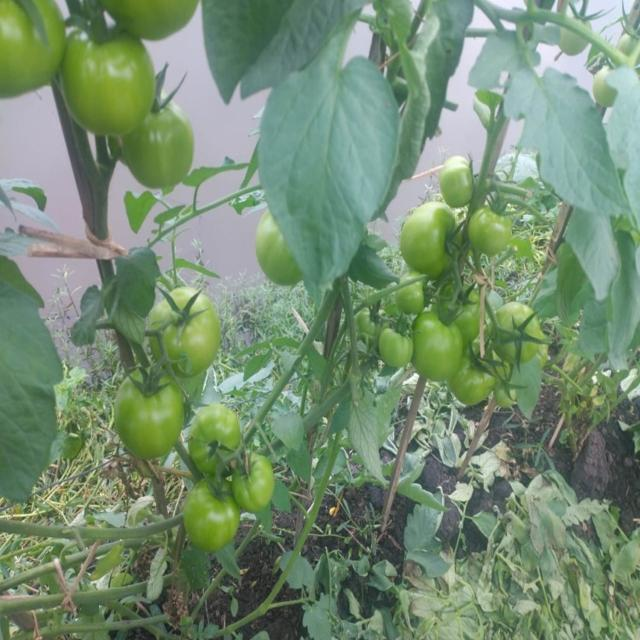tomato: (69, 20, 154, 131), (5, 2, 72, 102), (128, 98, 193, 197), (122, 364, 183, 457), (149, 286, 216, 370), (402, 204, 462, 275), (412, 310, 464, 383), (186, 488, 244, 553), (256, 212, 303, 292), (187, 404, 239, 476), (103, 1, 198, 39), (492, 300, 544, 360), (231, 447, 277, 510), (469, 204, 517, 255), (450, 357, 494, 409), (437, 147, 477, 203), (452, 283, 487, 341), (379, 326, 418, 376), (397, 273, 435, 315), (557, 12, 592, 51), (496, 374, 526, 416), (362, 304, 389, 338), (596, 61, 617, 97), (621, 26, 640, 50)
